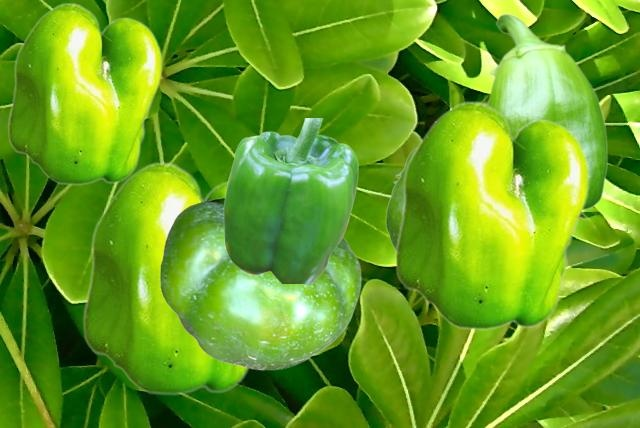bell_pepper: (394, 100, 588, 329), (82, 161, 252, 394), (160, 196, 360, 369), (7, 2, 161, 184), (487, 13, 607, 220), (223, 118, 357, 282), (385, 148, 414, 249)
